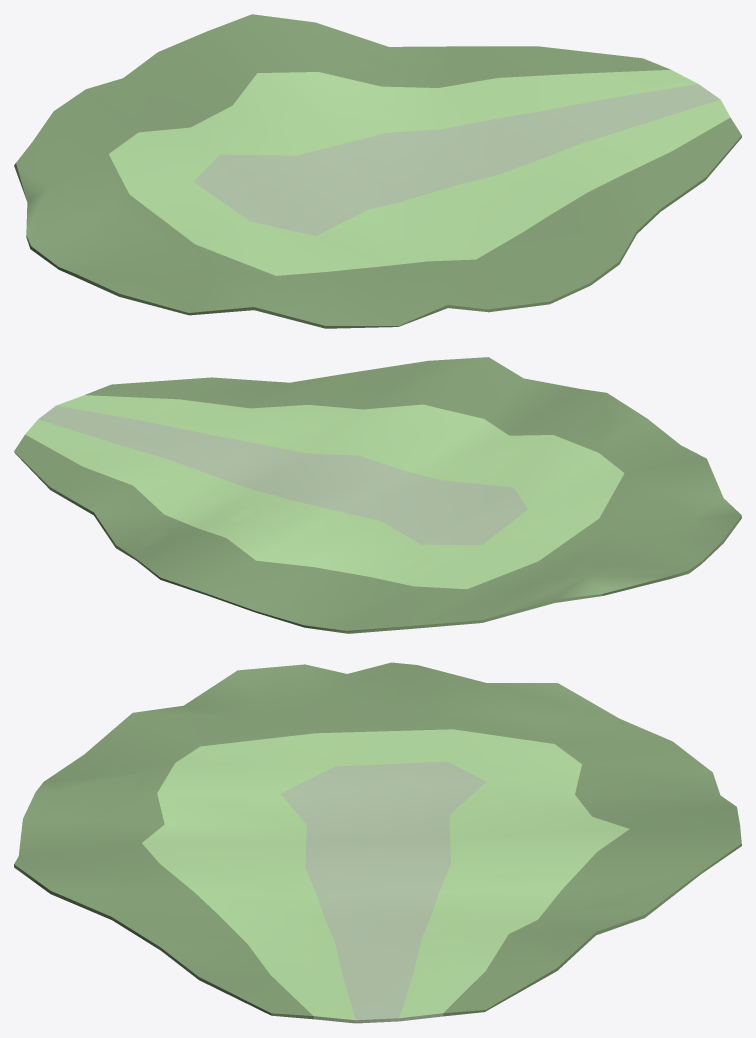
The model's file is lettuce.fbx.
The picture shows the model from 3 angles, top to bottom: view 1: azimuth 30°, elevation 25°; view 2: azimuth 150°, elevation 25°; view 3: azimuth 270°, elevation 25°; orthographic projection. The views are drawn at different scales.
Visible parts, largest first — view 1: lettuce; view 2: lettuce; view 3: lettuce.
Part boxes in pixels (bbox=[...]): lettuce: bbox=[14, 14, 741, 328]; lettuce: bbox=[14, 357, 741, 633]; lettuce: bbox=[14, 662, 741, 1023].
Size of the model in its own units: 14.04 by 0.672 by 12.26.
